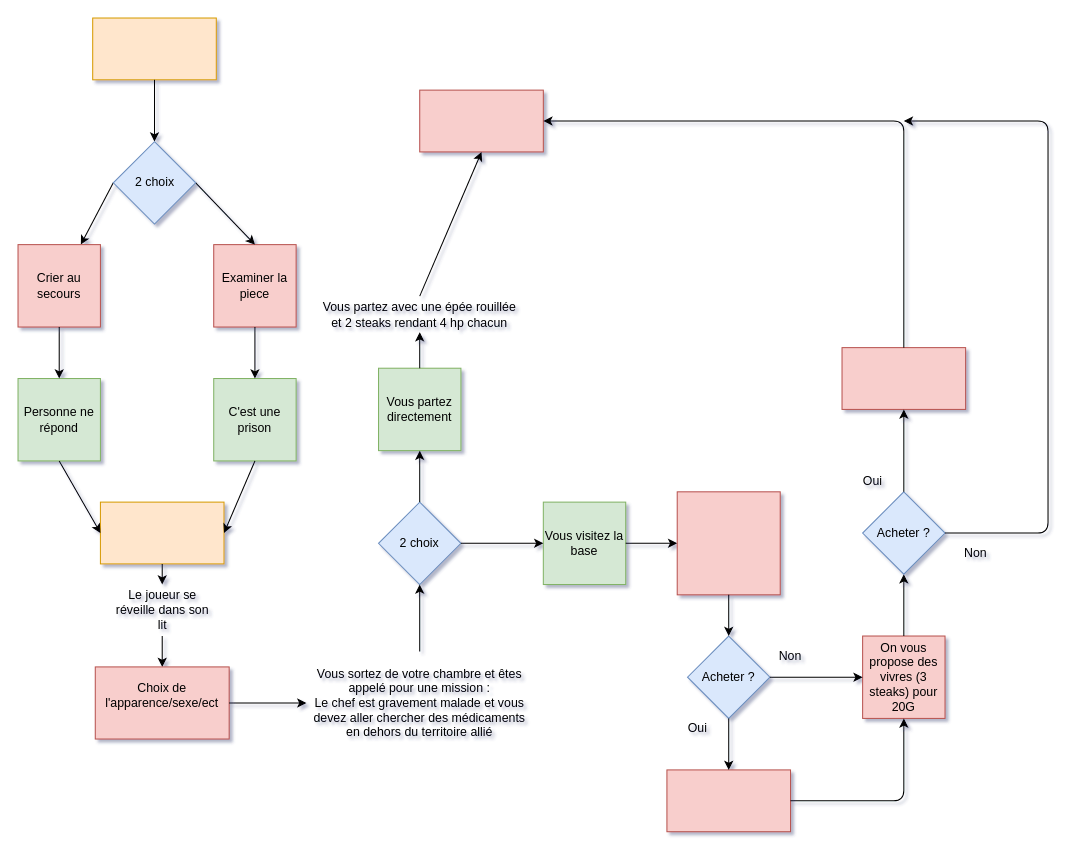
Some shapes in this 1080 by 856 pixel diagram are drawn without their labels. The shapes that lost their labels are listed below. From the top down, each one's centre as x and y in pixels, then its label:
At (x=154, y=48): "Reveil dans la base enemie".
At (x=481, y=120): "Depart de la base".
At (x=903, y=378): "- 20G + 3 steaks".
At (x=161, y=532): "Flashback 3j avant".
At (x=728, y=543): "Quelqu'un veut vous vendre une épée pour 100G Vous en avez 200".
At (x=728, y=800): "G - 100 Epée +1".
